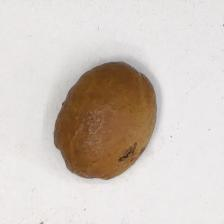NG: (116, 136, 148, 171)
